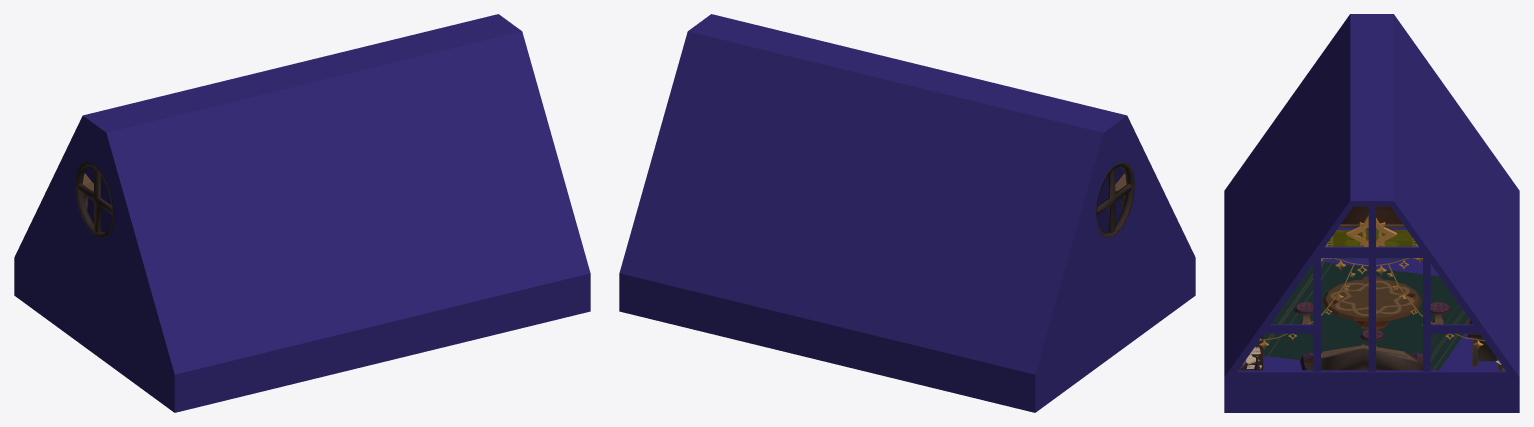
Rendered from MagicRoom.fbx.
3 renders of one model, left to right at view 1: azimuth 30°, elevation 25°; view 2: azimuth 150°, elevation 25°; view 3: azimuth 270°, elevation 25°, orthographic. The views are drawn at different scales.
Parts seen in each view (by area): view 1: Tent, Window.001; view 2: Tent, Window.001; view 3: Tent, Rug_Big, PokerTable, Sofa, StarLight, Tent.003, Tent.006, Rug_Smol, Tent.005, Tent.004, Door, PupStool.002 (+3 smaller).
Boxes of the visible parts, box(x1,y1,x2,y2) form: Tent: box(14, 14, 590, 412); Window.001: box(75, 161, 114, 238); Tent: box(619, 14, 1195, 412); Window.001: box(1095, 161, 1134, 238); Tent: box(1224, 14, 1519, 412); Rug_Big: box(1263, 261, 1467, 370); PokerTable: box(1323, 279, 1422, 329); Sofa: box(1300, 344, 1422, 370); StarLight: box(1259, 215, 1484, 348); Tent.003: box(1368, 206, 1375, 371); Tent.006: box(1321, 246, 1425, 257); Rug_Smol: box(1321, 230, 1418, 258); Tent.005: box(1313, 253, 1320, 371); Tent.004: box(1423, 253, 1430, 371); Door: box(1338, 206, 1405, 227); PupStool.002: box(1294, 302, 1450, 324).
Size of the model in its own units: 1198 by 639 by 800.
7 materials, 6 textured.
